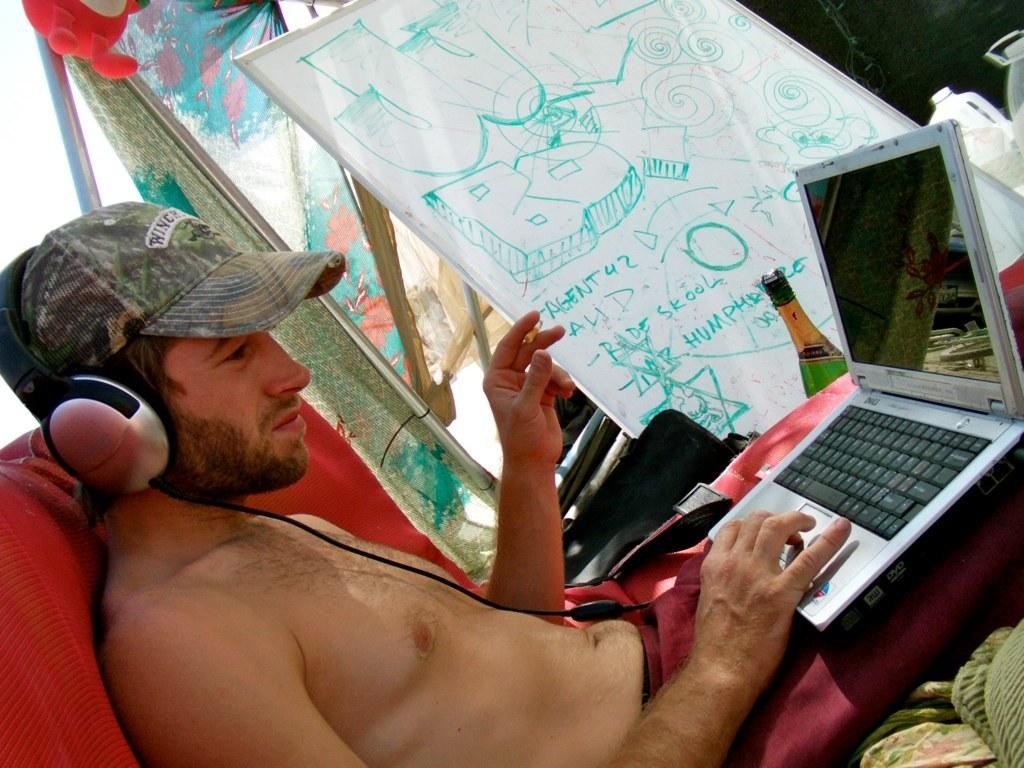Hat: (0, 200, 348, 426)
